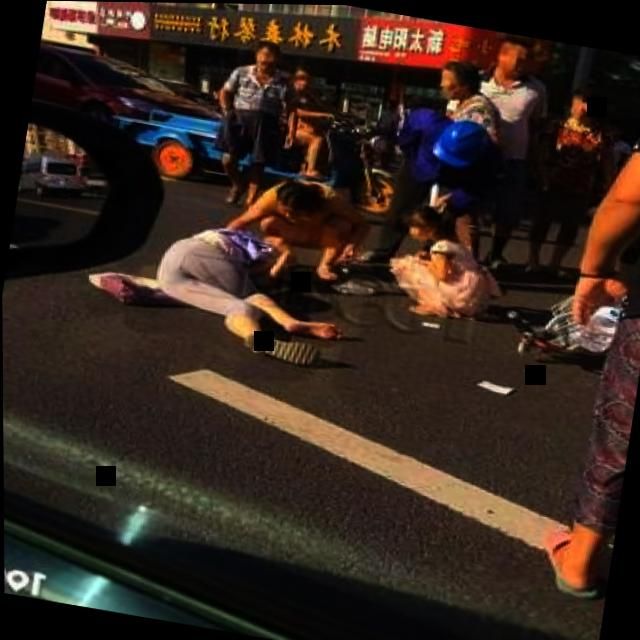Fall-Detected: (88, 189, 375, 367)
